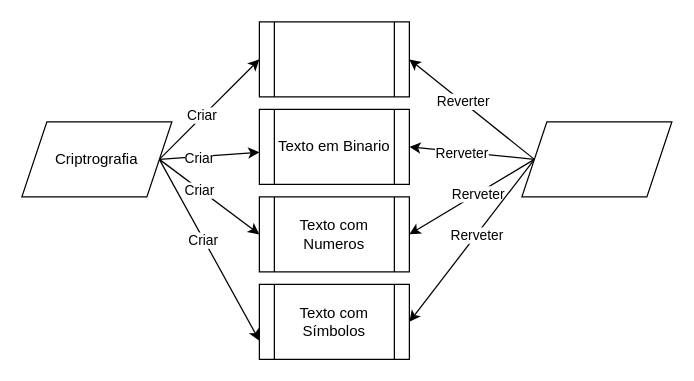
This 694x381 diagram has some shape labels left out. The centre of each missing label's shape, as x and y in pixels:
"Descriptografia" goes at [596,159].
"Texto ao Contrario" goes at [333,59].
